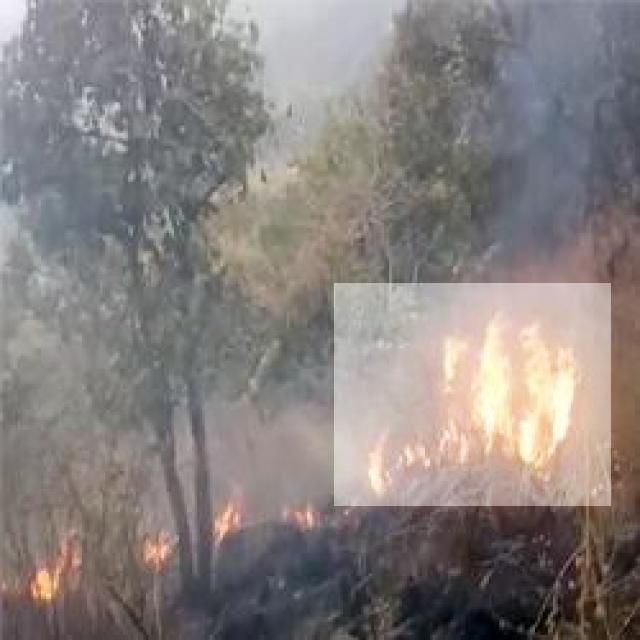Fire: (334, 283, 611, 506)
